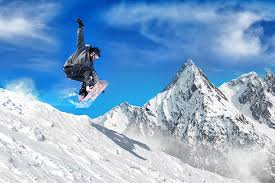snowboard: (76, 78, 109, 109)
